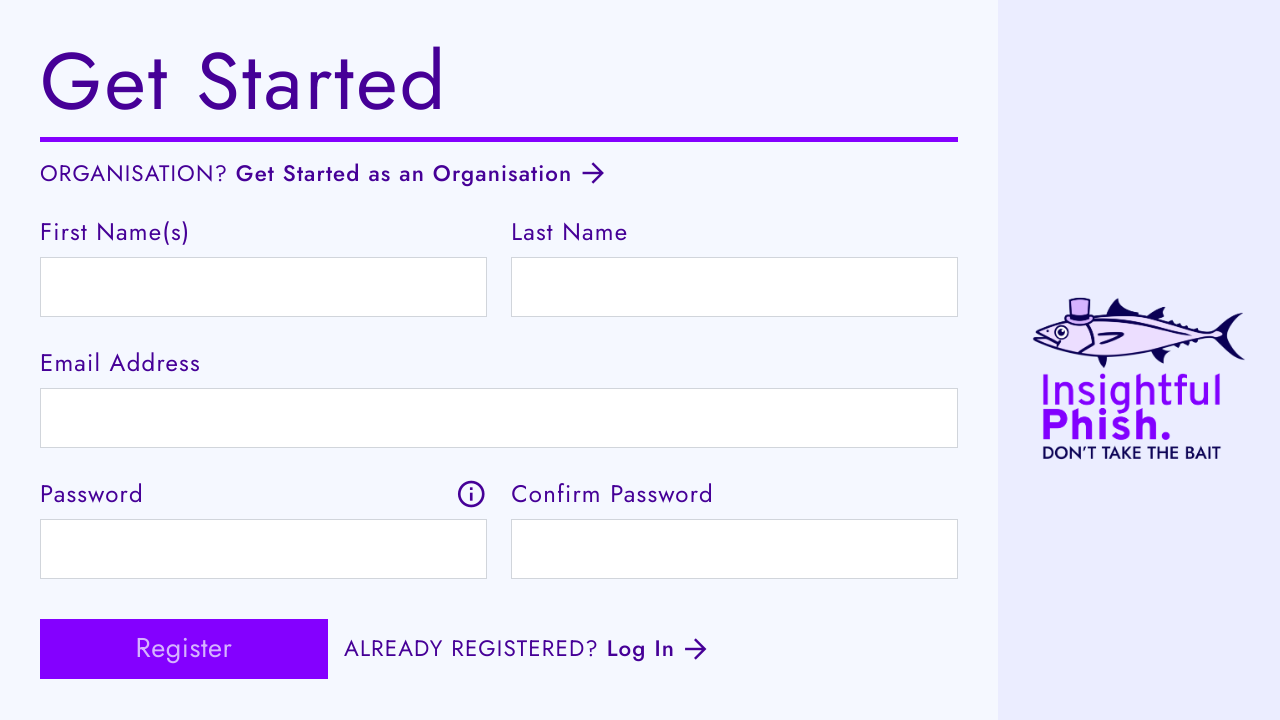
Test: RegisterPage › submits the registration details and shows the email verification modal on success
In the field labelled "First Name(s)": (264, 286) 40,256 -> 487,316, type "  Jane  "
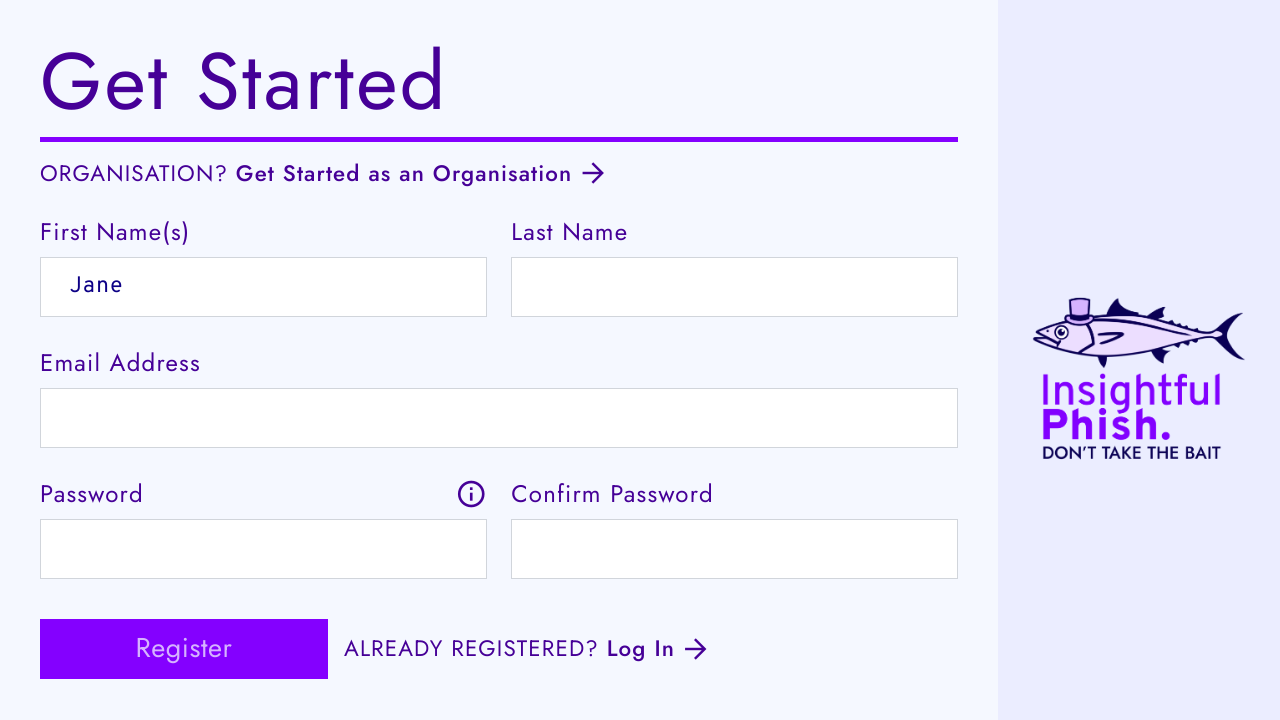
In the field labelled "Last Name": (735, 286) 511,256 -> 958,316, type "  Doe  "
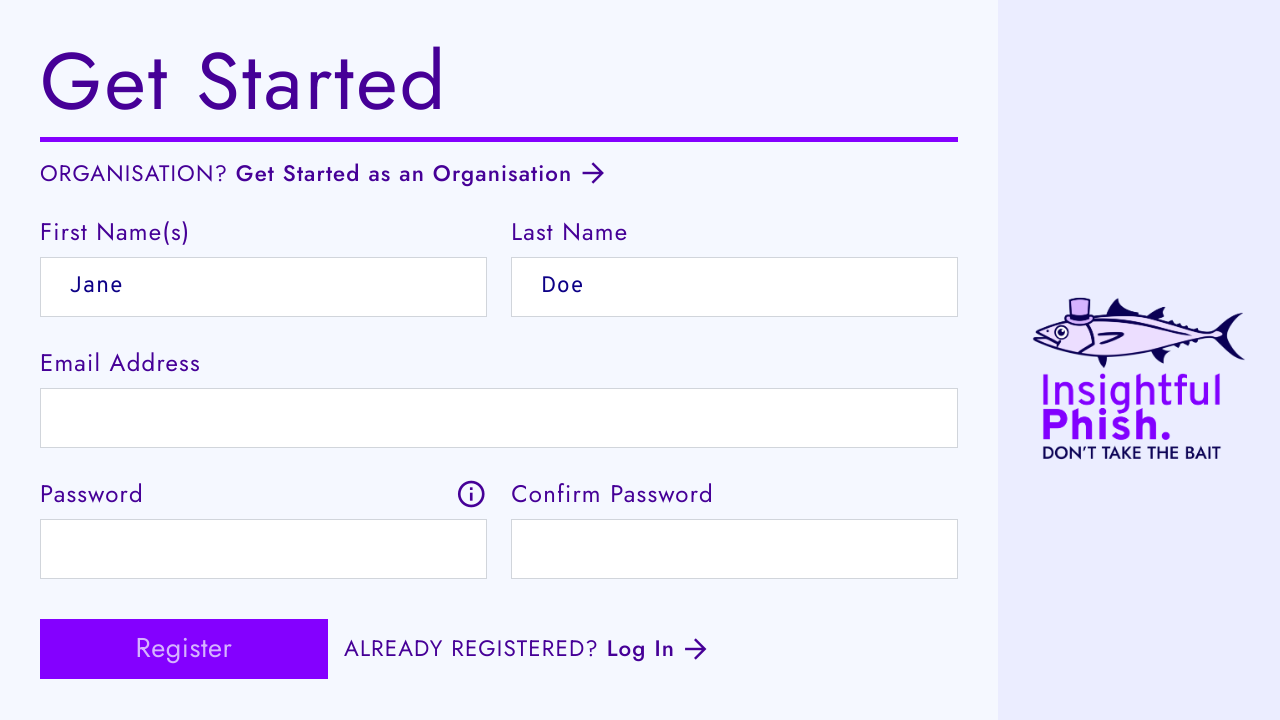
In the field labelled "Email Address": (499, 418) 40,388 -> 958,448, type "  TRAINEE@example.com  "
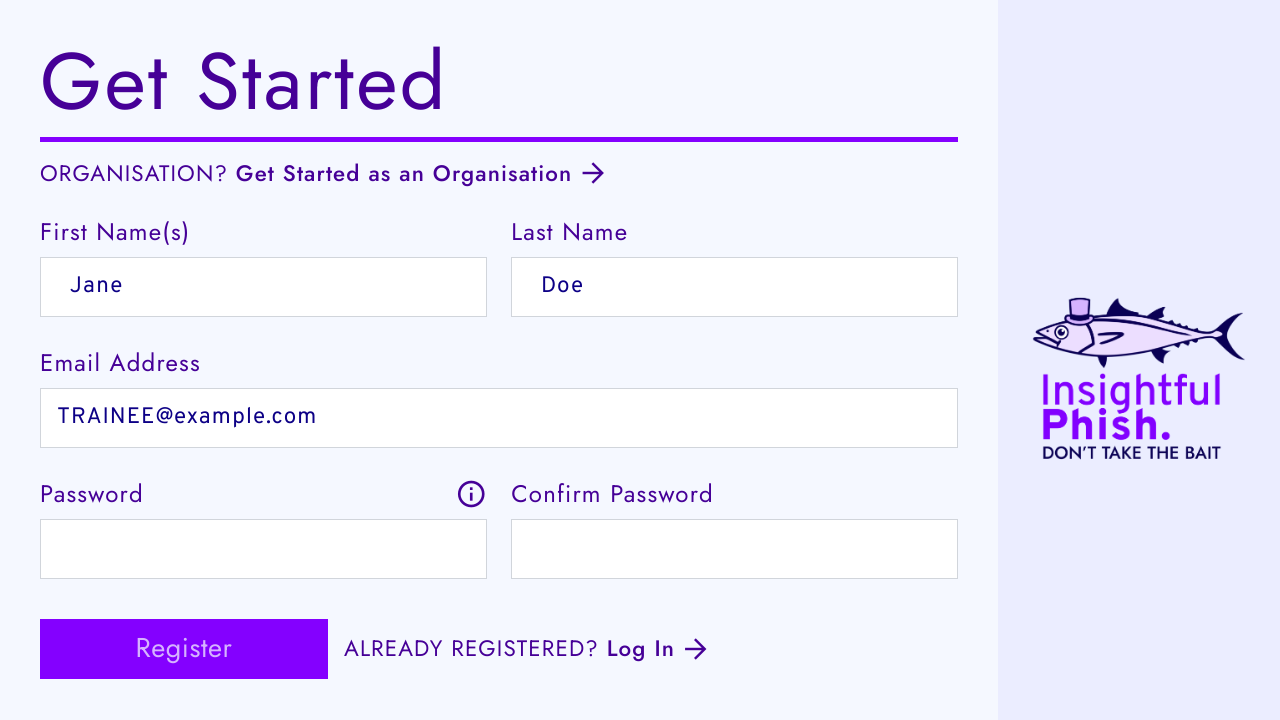
In the password field labelled "Password": (264, 549) 40,519 -> 487,579, type "ThisIsA$StrongPassword!301301!"
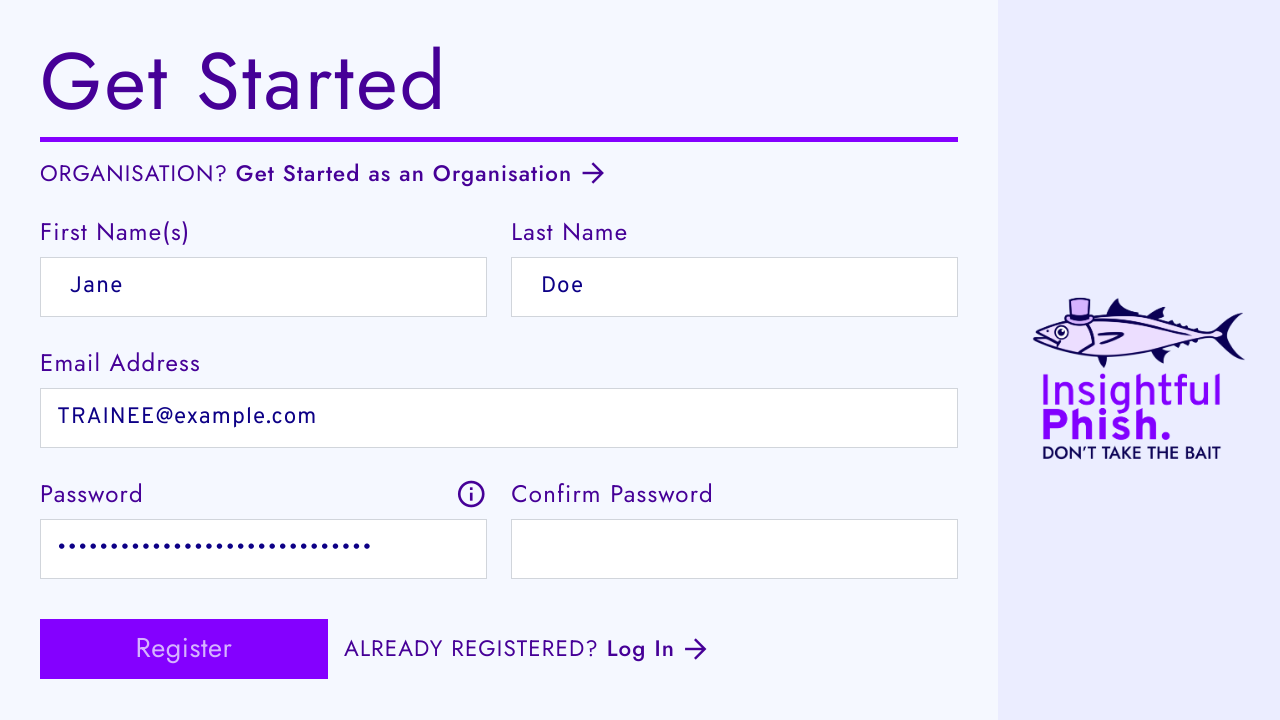
In the password field labelled "Confirm Password": (735, 549) 511,519 -> 958,579, type "ThisIsA$StrongPassword!301301!"
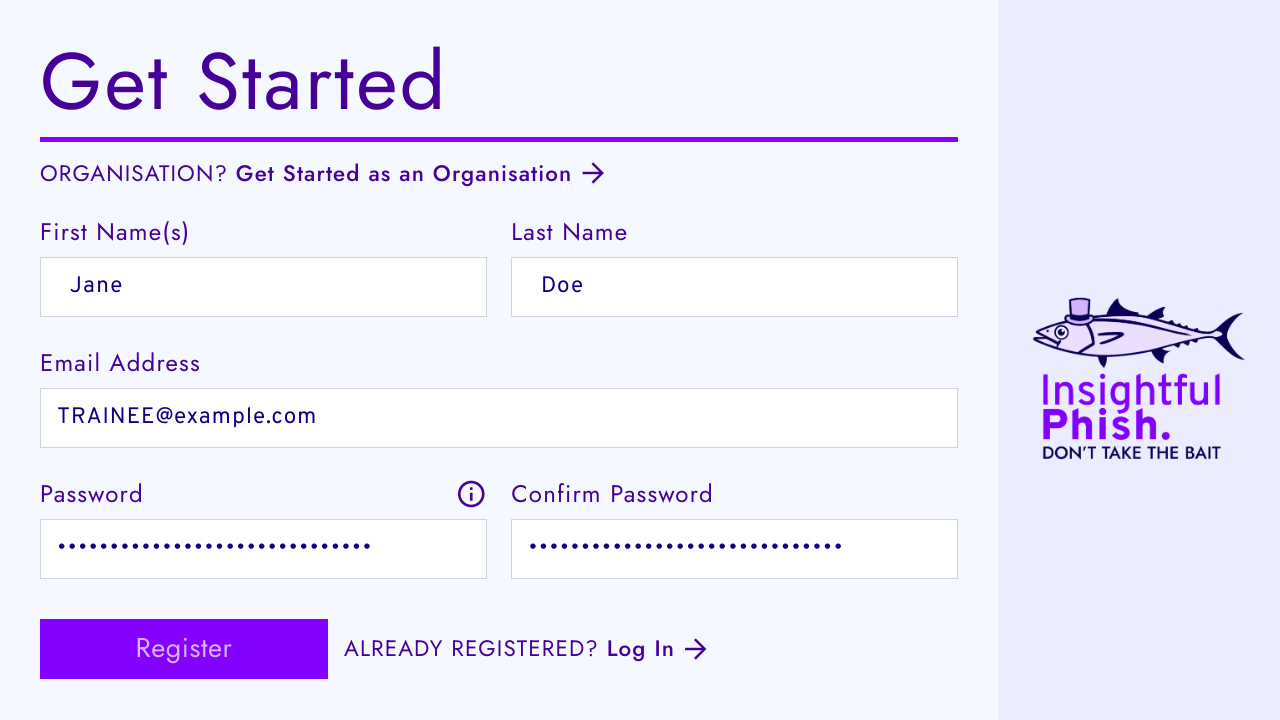
Click the button "Register": (184, 649) 40,619 -> 328,679
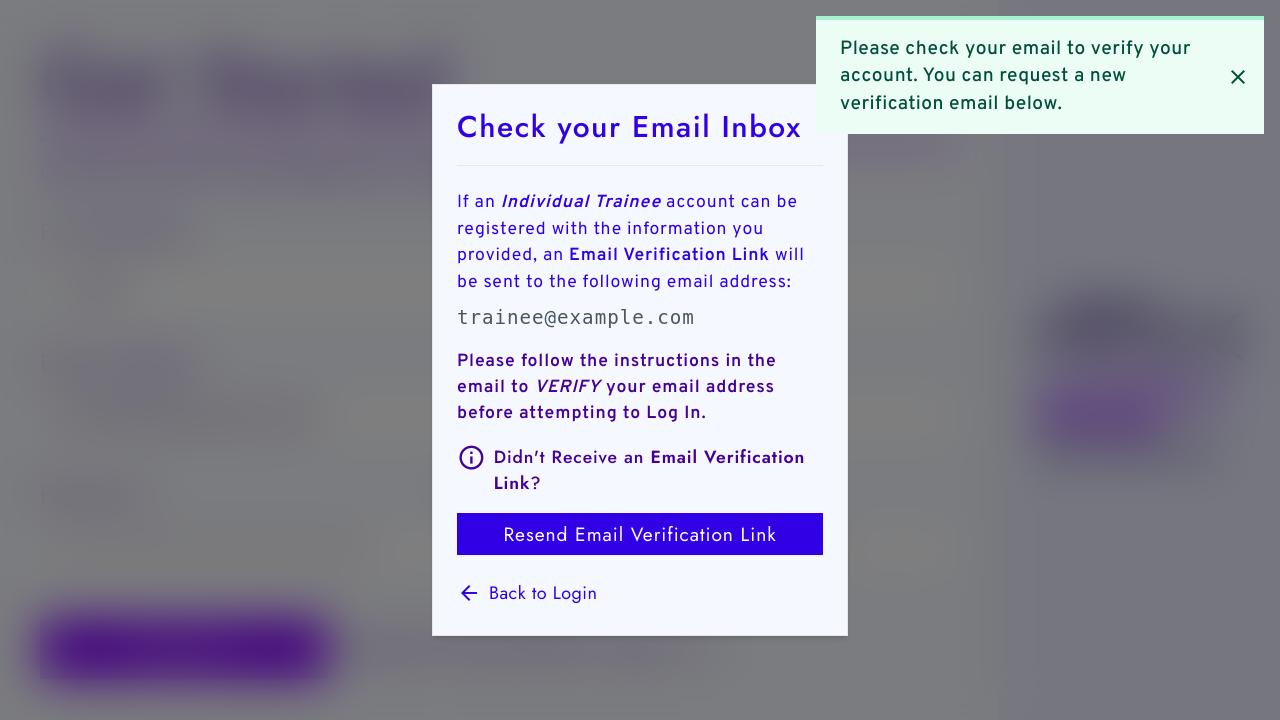
Check: the heading "Check your Email Inbox" is shown, box 457,109 -> 802,145
